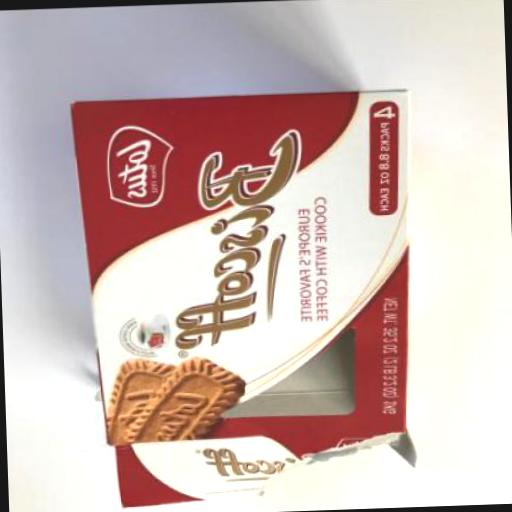cardboard: (69, 88, 420, 510), (72, 88, 421, 508)
